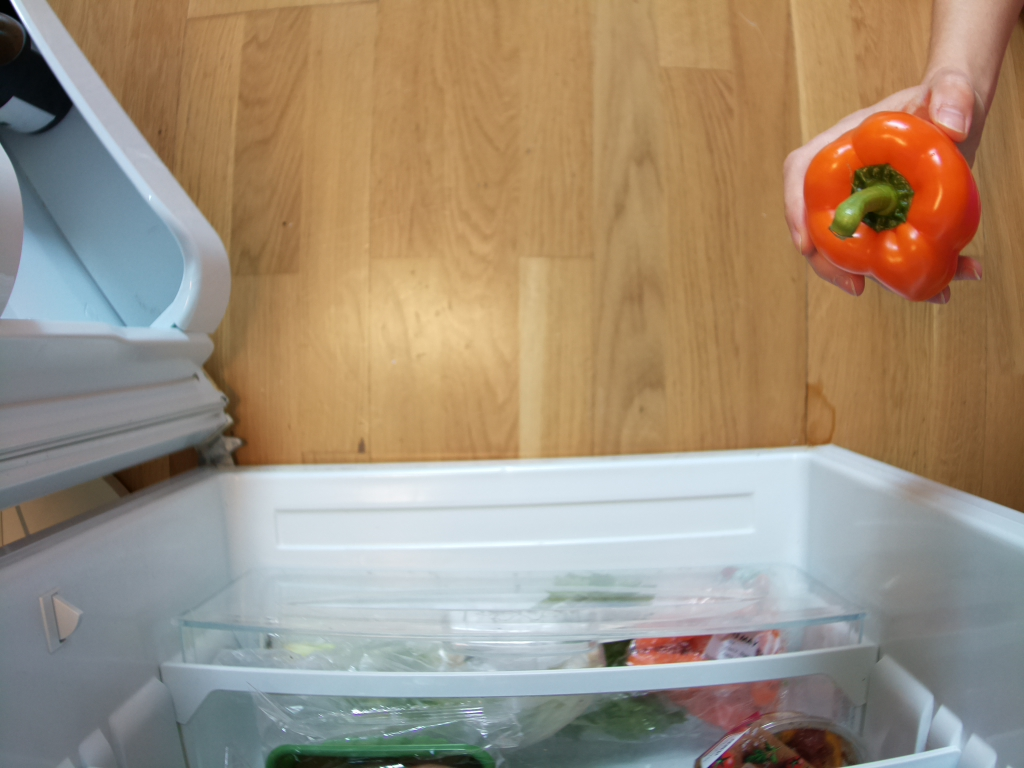pepper: (801, 111, 980, 304)
